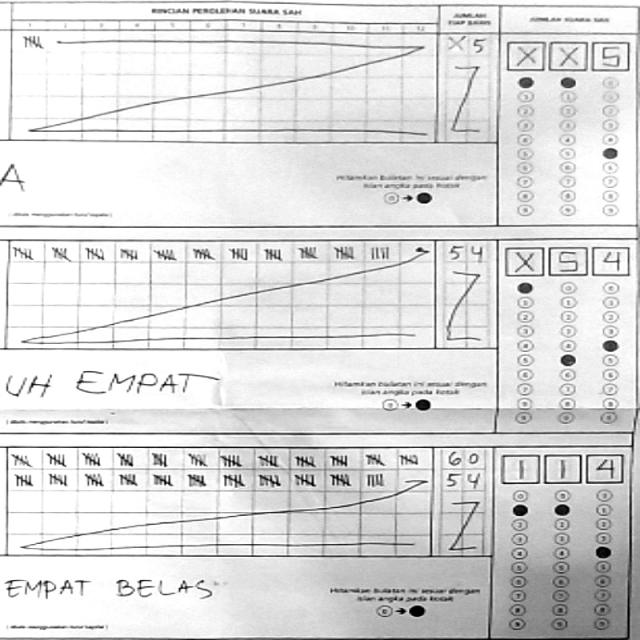Suara: (502, 39, 634, 77), (504, 244, 635, 282), (498, 451, 628, 489)
